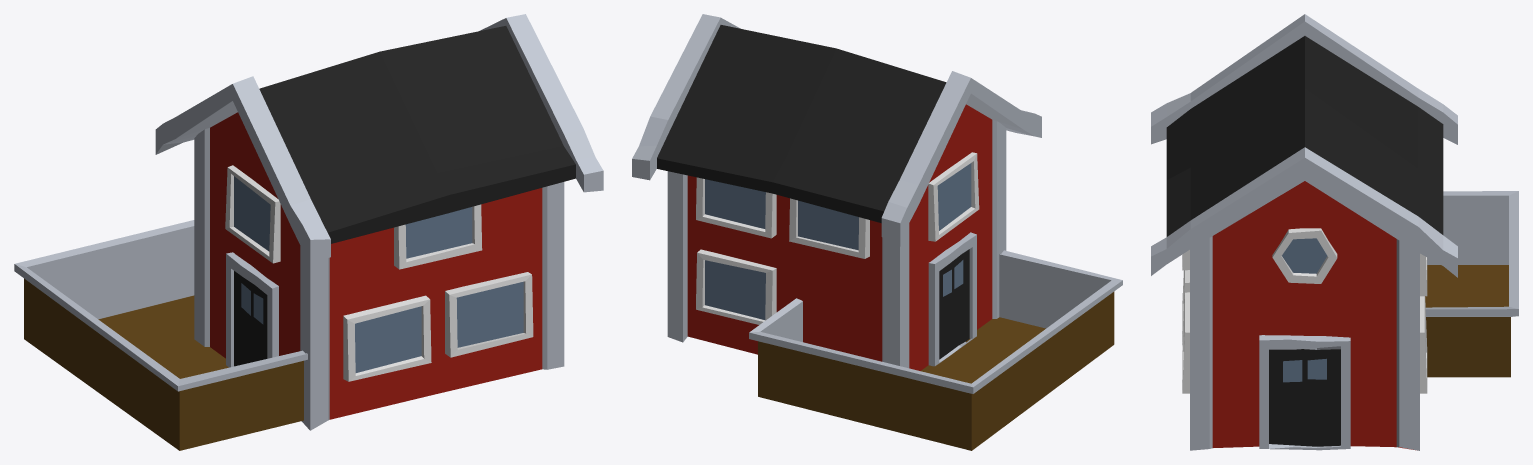
Rendered from GeoNerd_House.fbx.
3 renders of one model, left to right at view 1: azimuth 30°, elevation 25°; view 2: azimuth 150°, elevation 25°; view 3: azimuth 270°, elevation 25°, orthographic. The views are drawn at different scales.
Parts seen in each view (by area): view 1: House; view 2: House; view 3: House.
Part boxes in pixels (x1=…): House: x1=14, y1=14, x2=603, y2=450; House: x1=632, y1=14, x2=1122, y2=450; House: x1=1151, y1=14, x2=1518, y2=450.
Bounding box in the file's own units: 414 × 306 × 330.
